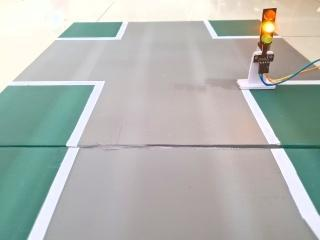yellow: (250, 2, 288, 51)
